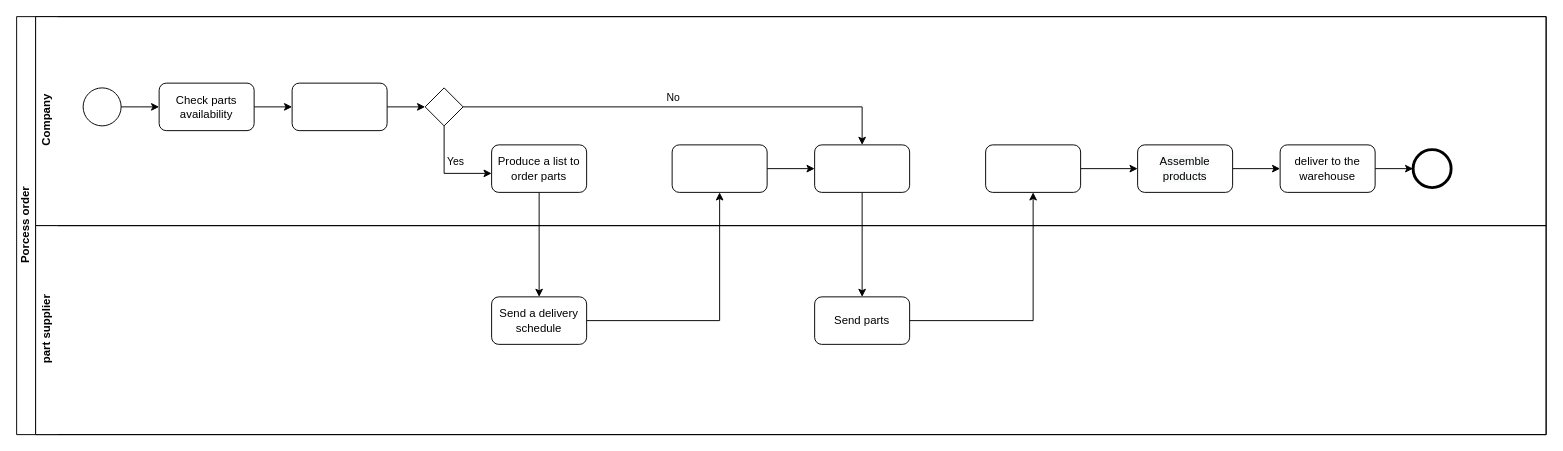
This 1563x451 diagram has some shape labels left out. Each missing label, with the centre of its shape:
"No parts in stock" belongs at pixel 339 106.
"Produce a product delivery schedule" belongs at pixel 862 168.
"Produce work order" belongs at pixel 719 168.
"Receive parts" belongs at pixel 1033 168.
